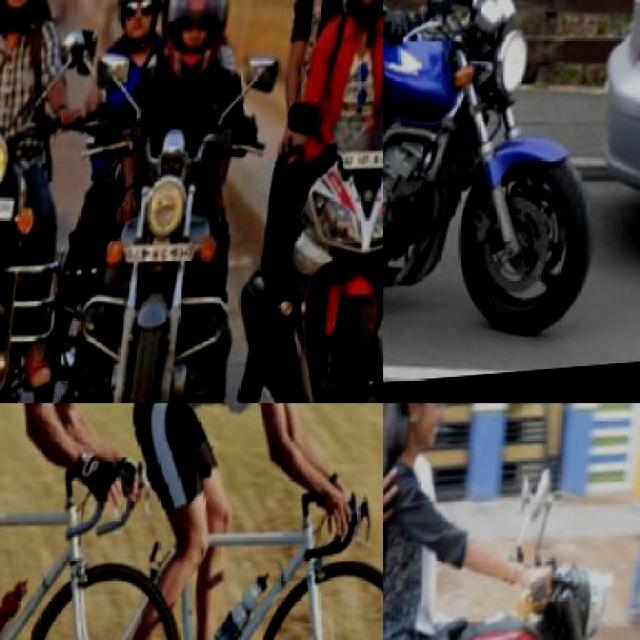With Helmet: (151, 0, 240, 95), (114, 0, 171, 52), (326, 0, 382, 45), (0, 0, 65, 37)
Without Helmet: (386, 403, 462, 440)
